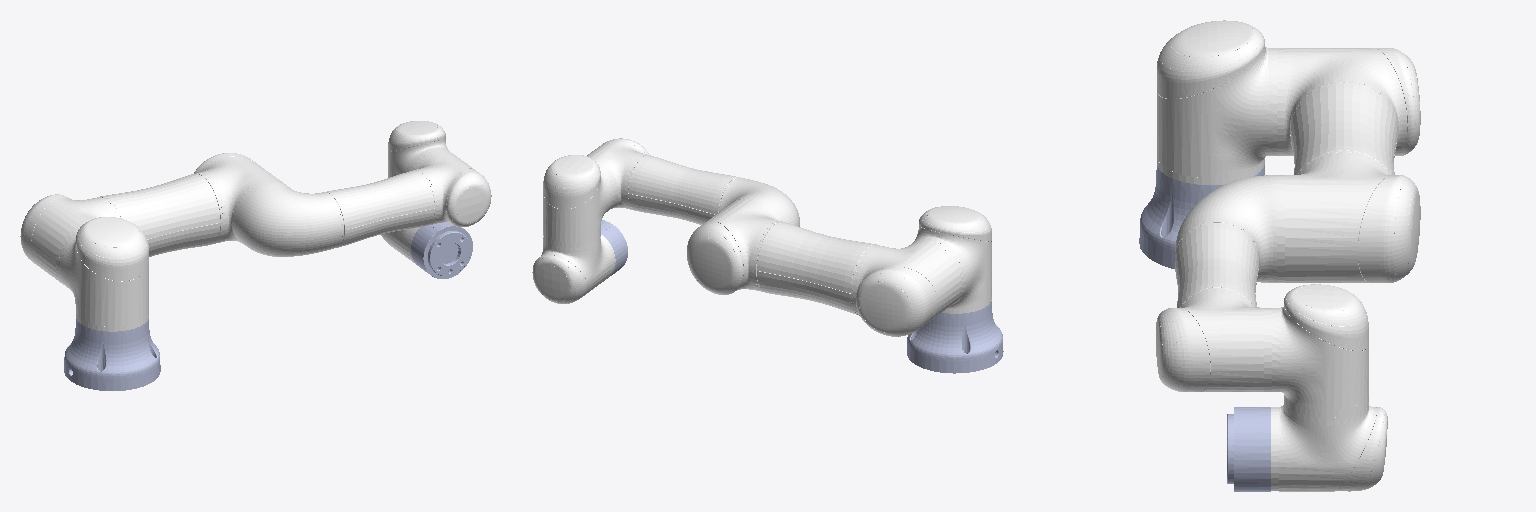
URDF robot description (ec63):
<?xml version="1.0" encoding="utf-8"?>
<robot name="ec63">
    <link name="world" />
    <joint name="world_joint" type="fixed">
        <origin xyz="0 0 0" rpy="0 0 0" />
        <parent link="world" />
        <child link="base_link" />
    </joint>
    <link name="base_link">
    <inertial>
        <origin xyz="6.6025E-05 1.6931E-05 0.036471" rpy="0 0 0" />
        <mass value="0.3647" />
        <inertia ixx="0.00059057" ixy="6.2306E-07" ixz="6.6029E-07" iyy="0.00058934" iyz="-4.8028E-08"
            izz="0.00074656" />
    </inertial>
    <visual>
        <origin xyz="0 0 0" rpy="0 0 0" />
        <geometry>
            <mesh filename="package://elite_description/meshes/ec63/base_link.STL" />
        </geometry>
        <material name="">
            <color rgba="0.79216 0.81961 0.93333 1" />
        </material>
    </visual>
    <collision>
        <origin xyz="0 0 0" rpy="0 0 0" />
        <geometry>
            <mesh filename="package://elite_description/meshes/ec63/base_link.STL" />
        </geometry>
    </collision>
    </link>
    <link name="link1">
    <inertial>
        <origin xyz="-5.9693298609962E-07 0.00718798730554815 0.00130597011750025" rpy="0 0 0" />
        <mass value="1.0468989469595" />
        <inertia ixx="0.00131622835302873" ixy="1.33626024644229E-08" ixz="1.22267487012503E-08"
            iyy="0.00121041697616178" iyz="-0.000167494836949108" izz="0.00140200332966305" />
    </inertial>
    <visual>
        <origin xyz="0 0 0" rpy="0 0 0" />
        <geometry>
            <mesh filename="package://elite_description/meshes/ec63/link1.STL" />
        </geometry>
        <material name="">
            <color rgba="1 1 1 1" />
        </material>
    </visual>
    <collision>
        <origin xyz="0 0 0" rpy="0 0 0" />
        <geometry>
            <mesh filename="package://elite_description/meshes/ec63/link1.STL" />
        </geometry>
    </collision>
    </link>
    <joint name="joint1" type="revolute">
        <origin xyz="0 0 0.14" rpy="0 0 0" />
        <parent link="base_link" />
        <child link="link1" />
        <axis xyz="0 0 1" />
        <limit lower="-6.2832" upper="6.2832" effort="90" velocity="3.3161" />
    </joint>
    <link name="link2">
    <inertial>
        <origin xyz="0.13499 -8.1271E-07 0.12053" rpy="0 0 0" />
        <mass value="2.6439" />
        <inertia ixx="0.0032939" ixy="-2.7429E-08" ixz="-3.997E-09" iyy="0.0044238" iyz="-1.4367E-07" izz="0.004596" />
    </inertial>
    <visual>
        <origin xyz="0 0 0" rpy="0 0 0" />
        <geometry>
            <mesh filename="package://elite_description/meshes/ec63/link2.STL" />
        </geometry>
        <material name="">
            <color rgba="1 1 1 1" />
        </material>
    </visual>
    <collision>
        <origin xyz="0 0 0" rpy="0 0 0" />
        <geometry>
            <mesh filename="package://elite_description/meshes/ec63/link2.STL" />
        </geometry>
    </collision>
    </link>
    <joint name="joint2" type="revolute">
        <origin xyz="0 0 0" rpy="-1.5708 0 0" />
        <parent link="link1" />
        <child link="link2" />
        <axis xyz="0 0 1" />
        <limit lower="-6.2832" upper="6.2832" effort="90" velocity="3.3161" />
    </joint>
    <link name="link3">
    <inertial>
        <origin xyz="0.12895 -1.241E-05 0.011444" rpy="0 0 0" />
        <mass value="1.4492" />
        <inertia ixx="0.0012764" ixy="-3.0636E-08" ixz="7.348E-05" iyy="0.0020529" iyz="-2.1502E-07" izz="0.0020542" />
    </inertial>
    <visual>
        <origin xyz="0 0 0" rpy="0 0 0" />
        <geometry>
            <mesh filename="package://elite_description/meshes/ec63/link3.STL" />
        </geometry>
        <material name="">
            <color rgba="1 1 1 1" />
        </material>
    </visual>
    <collision>
        <origin xyz="0 0 0" rpy="0 0 0" />
        <geometry>
            <mesh filename="package://elite_description/meshes/ec63/link3.STL" />
        </geometry>
    </collision>
    </link>
    <joint name="joint3" type="revolute">
        <origin xyz="0.27 0 0" rpy="0 0 0" />
        <parent link="link2" />
        <child link="link3" />
        <axis xyz="0 0 1" />
        <limit lower="-2.7925" upper="2.7925" effort="90" velocity="3.3161" />
    </joint>
    <link name="link4">
    <inertial>
        <origin xyz="-5.2284E-07 -0.00070291 0.097494" rpy="0 0 0" />
        <mass value="0.53436" />
        <inertia ixx="0.00041486" ixy="-4.4868E-09" ixz="-1.0989E-09" iyy="0.0004403" iyz="-5.8283E-05"
            izz="0.00037669" />
    </inertial>
    <visual>
        <origin xyz="0 0 0" rpy="0 0 0" />
        <geometry>
            <mesh filename="package://elite_description/meshes/ec63/link4.STL" />
        </geometry>
        <material name="">
            <color rgba="1 1 1 1" />
        </material>
    </visual>
    <collision>
        <origin xyz="0 0 0" rpy="0 0 0" />
        <geometry>
            <mesh filename="package://elite_description/meshes/ec63/link4.STL" />
        </geometry>
    </collision>
    </link>
    <joint name="joint4" type="revolute">
        <origin xyz="0.256 0 0" rpy="0 0 0" />
        <parent link="link3" />
        <child link="link4" />
        <axis xyz="0 0 1" />
        <limit lower="-6.2832" upper="6.2832" effort="20" velocity="4.5379" />
    </joint>
    <link name="link5">
    <inertial>
        <origin xyz="-5.2273E-07 -0.0012029 0.091994" rpy="0 0 0" />
        <mass value="0.53436" />
        <inertia ixx="0.00041486" ixy="-4.4901E-09" ixz="-1.1099E-09" iyy="0.0004403" iyz="-5.8283E-05"
            izz="0.00037669" />
    </inertial>
    <visual>
        <origin xyz="0 0 0" rpy="0 0 0" />
        <geometry>
            <mesh filename="package://elite_description/meshes/ec63/link5.STL" />
        </geometry>
        <material name="">
            <color rgba="1 1 1 1" />
        </material>
    </visual>
    <collision>
        <origin xyz="0 0 0" rpy="0 0 0" />
        <geometry>
            <mesh filename="package://elite_description/meshes/ec63/link5.STL" />
        </geometry>
    </collision>
    </link>
    <joint name="joint5" type="revolute">
        <origin xyz="0 0 0.103" rpy="-1.5708 0 0" />
        <parent link="link4" />
        <child link="link5" />
        <axis xyz="0 0 1" />
        <limit lower="-6.2832" upper="6.2832" effort="20" velocity="4.5379" />
    </joint>
    <link name="link6">
    <inertial>
        <origin xyz="7.5563E-12 2.6132E-05 -0.021697" rpy="0 0 0" />
        <mass value="0.16467" />
        <inertia ixx="7.7607E-05" ixy="1.4753E-10" ixz="1.0602E-13" iyy="7.7808E-05" iyz="-7.8486E-08"
            izz="0.00011753" />
    </inertial>
    <visual>
        <origin xyz="0 0 0" rpy="0 0 0" />
        <geometry>
            <mesh filename="package://elite_description/meshes/ec63/link6.STL" />
        </geometry>
        <material name="">
            <color rgba="0.79216 0.81961 0.93333 1" />
        </material>
    </visual>
    <collision>
        <origin xyz="0 0 0" rpy="0 0 0" />
        <geometry>
            <mesh filename="package://elite_description/meshes/ec63/link6.STL" />
        </geometry>
    </collision>
    </link>
    <joint name="joint6" type="revolute">
        <origin xyz="0 0.089 0.098" rpy="-1.5708 0 0" />
        <parent link="link5" />
        <child link="link6" />
        <axis xyz="0 0 1" />
        <limit lower="-6.2832" upper="6.2832" effort="20" velocity="4.5379" />
    </joint>
    <link name="flan" />
    <joint name="flan_joint" type="fixed">
        <origin xyz="0 0 0" rpy="0 0 0" />
        <parent link="link6" />
        <child link="flan" />
    </joint>
</robot>

--- Render facts (derived) ---
Views: 3 orthographic renders of the robot side by side, from view 1: azimuth 30°, elevation 25°; view 2: azimuth 150°, elevation 25°; view 3: azimuth 270°, elevation 25°.
Robot: ec63 — 9 links, 8 joints (6 revolute, 2 fixed); root link world; default pose: every joint at zero.
Visible links, largest first — view 1: link3, link2, link1, base_link, link6, link4, link5; view 2: link2, link3, link4, base_link, link1, link5, link6; view 3: link2, link3, link1, link4, link5, base_link, link6.
Boxes of the visible links, x1,y1,x2,y2 form: link3: (235,150,491,256); link2: (20,153,285,284); link1: (58,217,148,331); base_link: (64,319,160,390); link6: (411,222,472,278); link4: (388,121,448,177); link5: (381,227,419,265); link2: (687,197,963,336); link3: (587,138,799,226); link4: (543,155,614,247); base_link: (907,300,1003,373); link1: (913,206,991,313); link5: (532,235,615,303); link6: (601,220,627,275); link2: (1277,48,1420,282); link3: (1156,175,1276,391); link1: (1157,20,1276,184); link4: (1272,284,1368,417); link5: (1271,402,1387,491); base_link: (1139,165,1264,268); link6: (1227,407,1270,491).
Bounding box of the posed robot: 0.6278 × 0.2519 × 0.2084 m (x, y, z).
Meshes: 7 distinct files referenced, 7 mesh visuals loaded (7 binary STL).